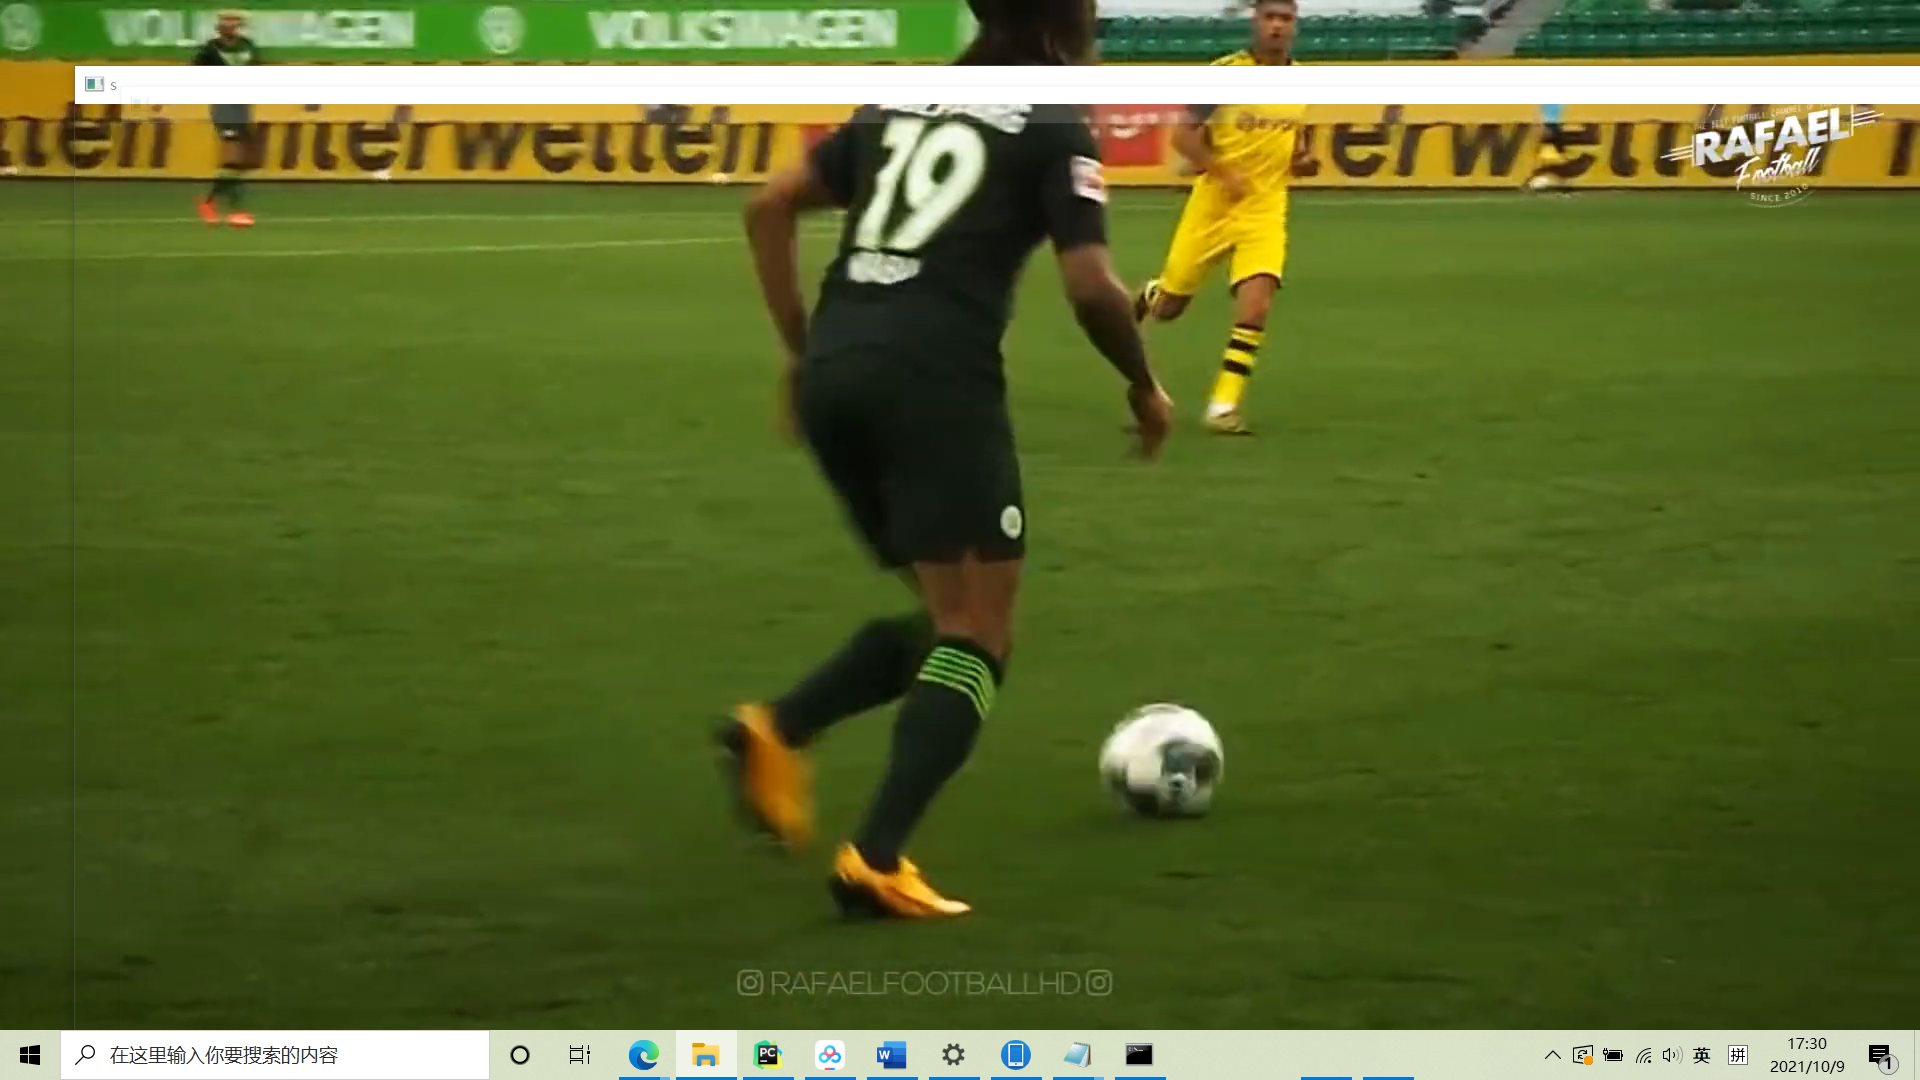ft: (1098, 692, 1226, 837)
